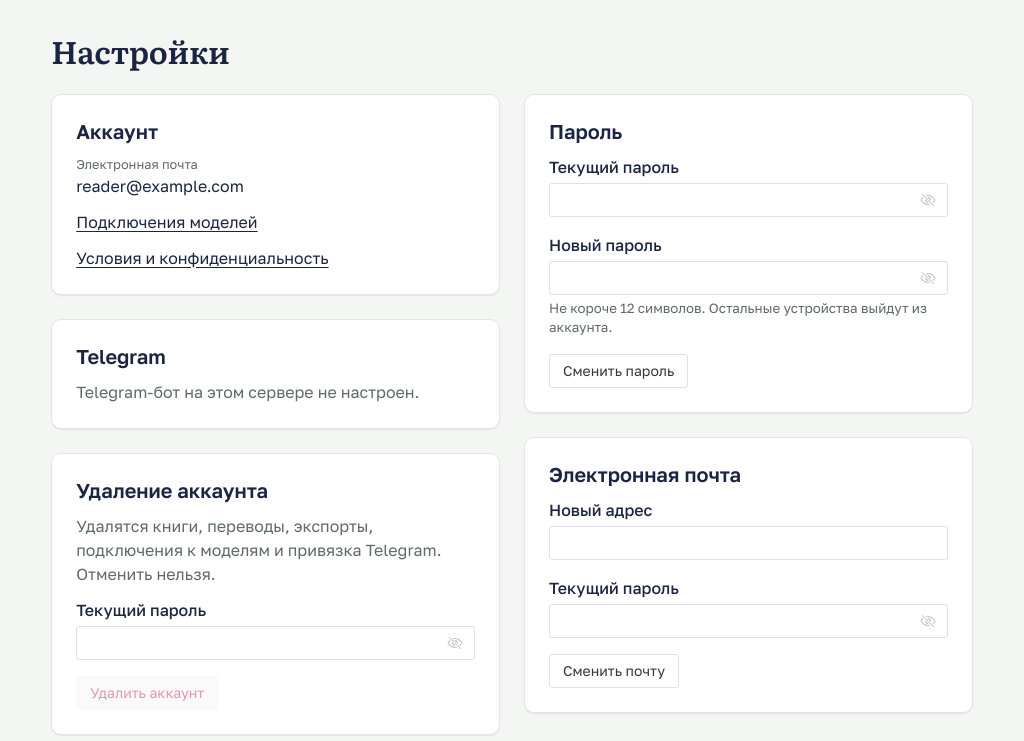
Scenario: удаление аккаунта › неверный пароль показан, аккаунт на месте
This screenshot has width=1024, height=741.
Step 1. Type "wrong-password-1" into the password field named "delete_password" → (266, 643), box top-left (88, 626), bottom-right (443, 660)
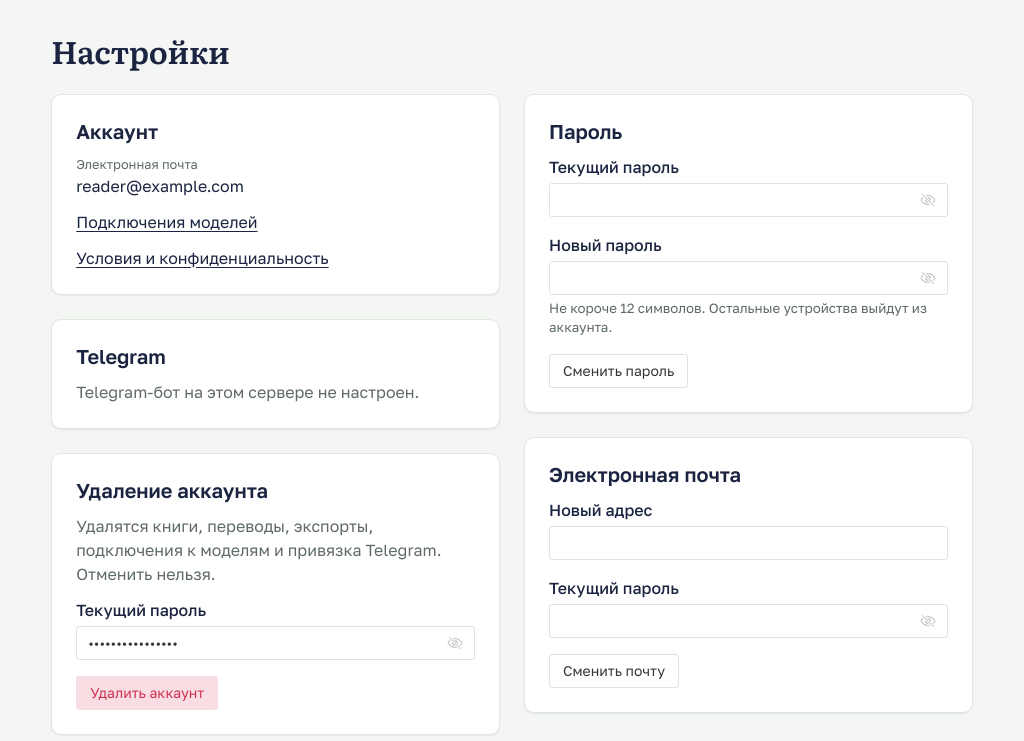
Step 2. Click the button with class "delete" → (147, 693), box top-left (76, 676), bottom-right (218, 710)
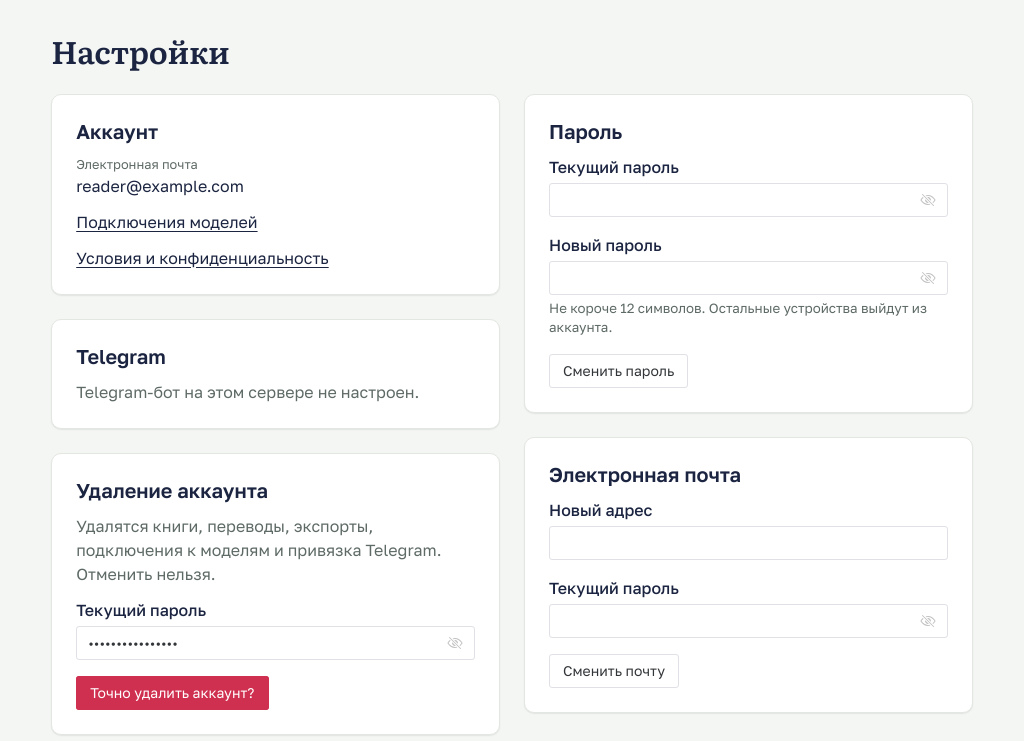
Step 3. Click the button with class "delete" → (172, 693), box top-left (76, 676), bottom-right (268, 710)
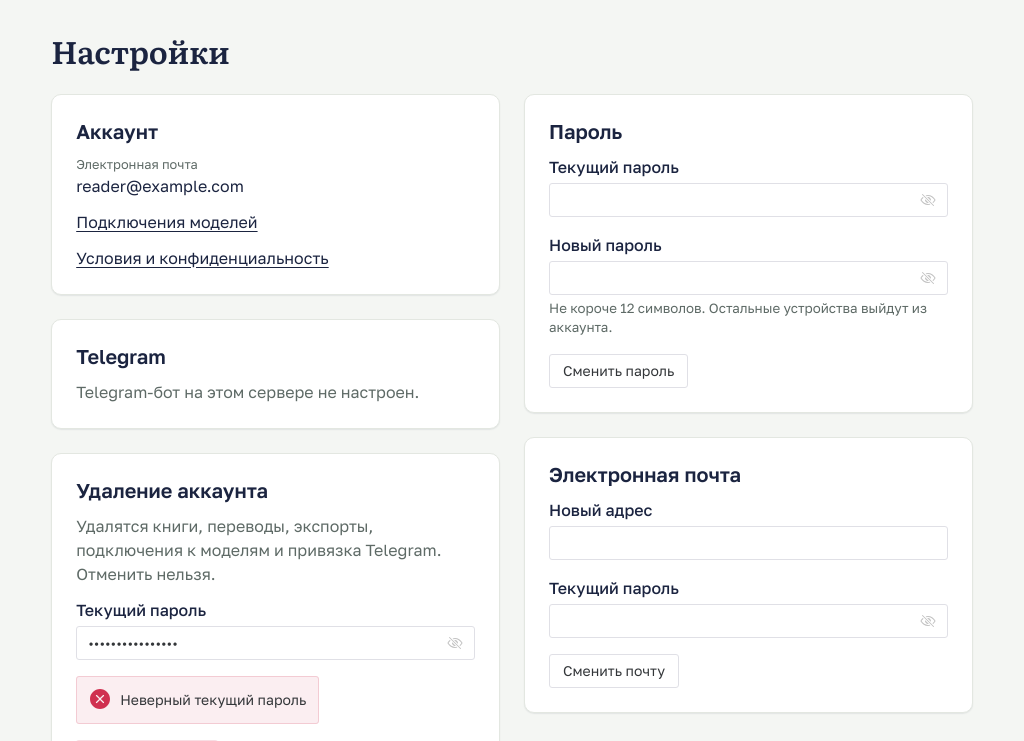
Now the message "Неверный текущий пароль" is shown, box top-left (76, 676), bottom-right (319, 724)
